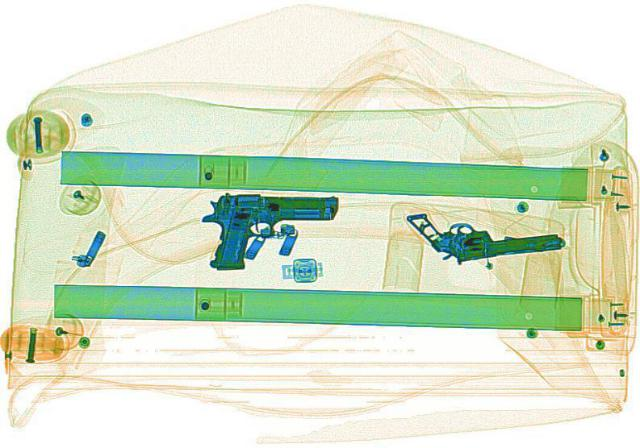Gun: (402, 194, 568, 268), (196, 190, 340, 272)
